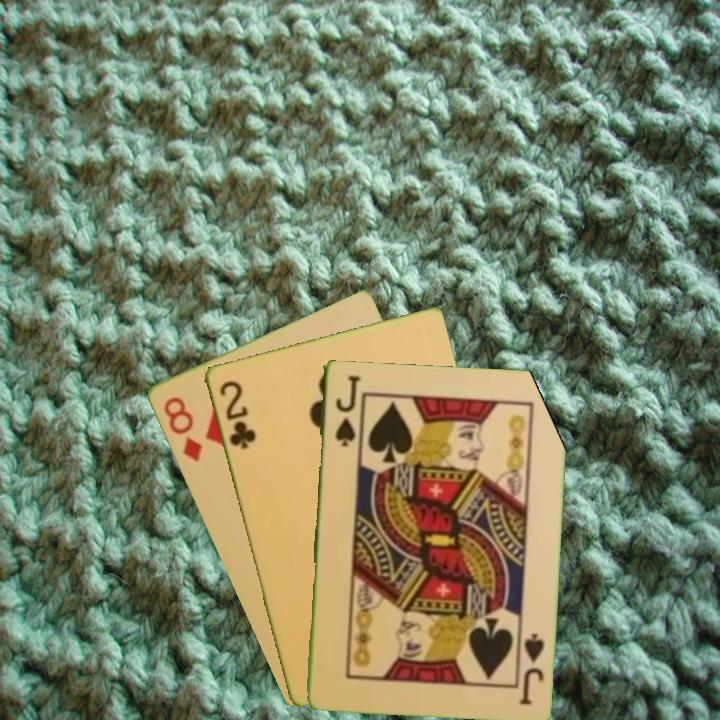2c: (215, 376, 259, 452)
8d: (159, 393, 205, 465)
Js: (516, 629, 547, 707), (331, 372, 359, 449)
